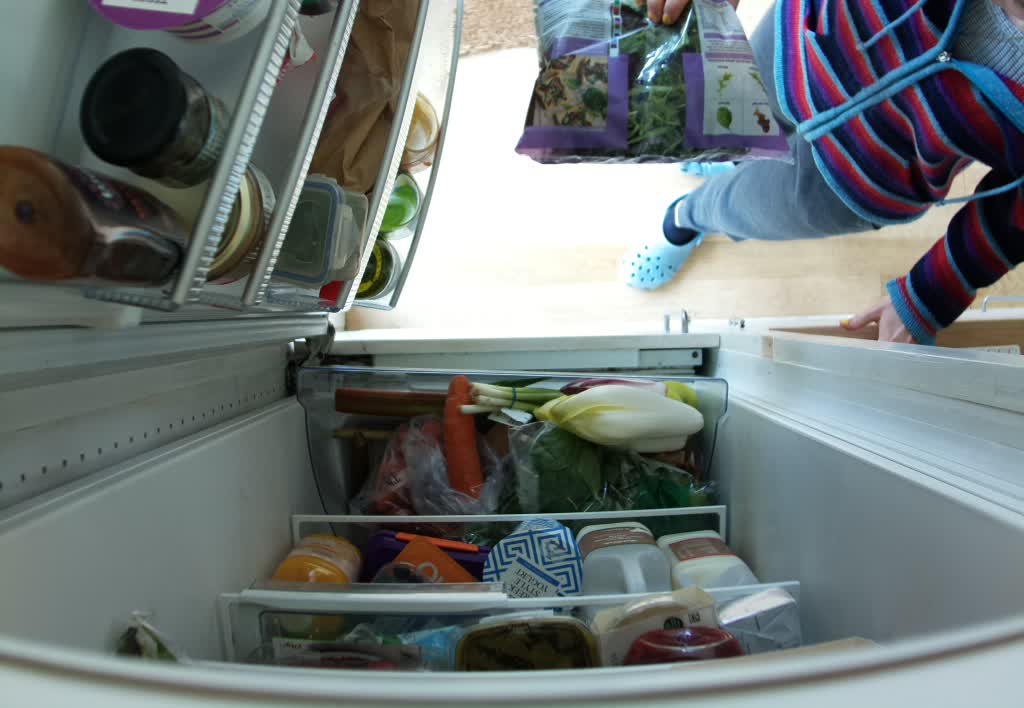salad: (526, 1, 798, 166), (540, 382, 712, 459)
